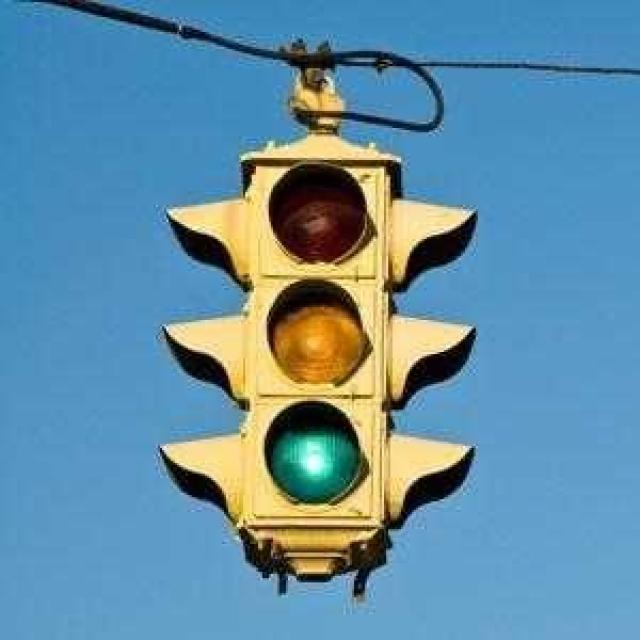Traffic Light -Green-: (250, 150, 388, 520)
